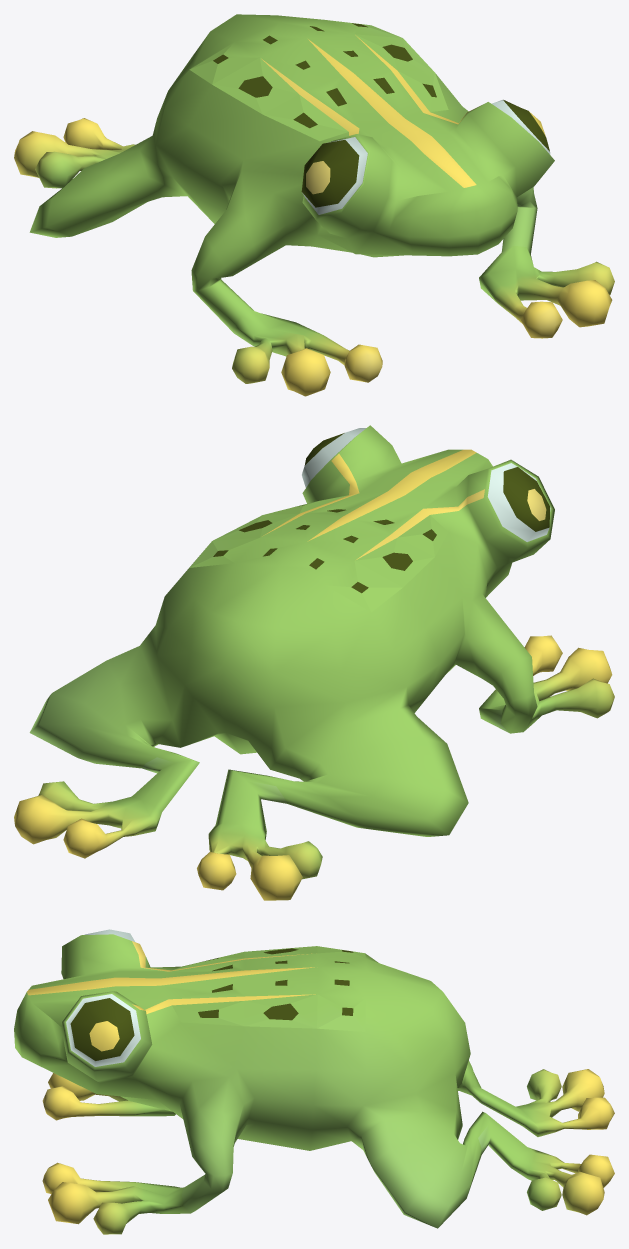
3 views of the same model, one above another, from view 1: azimuth 30°, elevation 25°; view 2: azimuth 150°, elevation 25°; view 3: azimuth 270°, elevation 25° (orthographic). The views are drawn at different scales.
Visible parts, largest first — view 1: Fish_Frog; view 2: Fish_Frog; view 3: Fish_Frog.
Boxes of the visible parts, x1=… form: Fish_Frog: x1=14, y1=14, x2=614, y2=396; Fish_Frog: x1=14, y1=425, x2=614, y2=900; Fish_Frog: x1=14, y1=929, x2=614, y2=1234.
Bounding box in the file's own units: 21.63 × 11.01 × 30.1.
